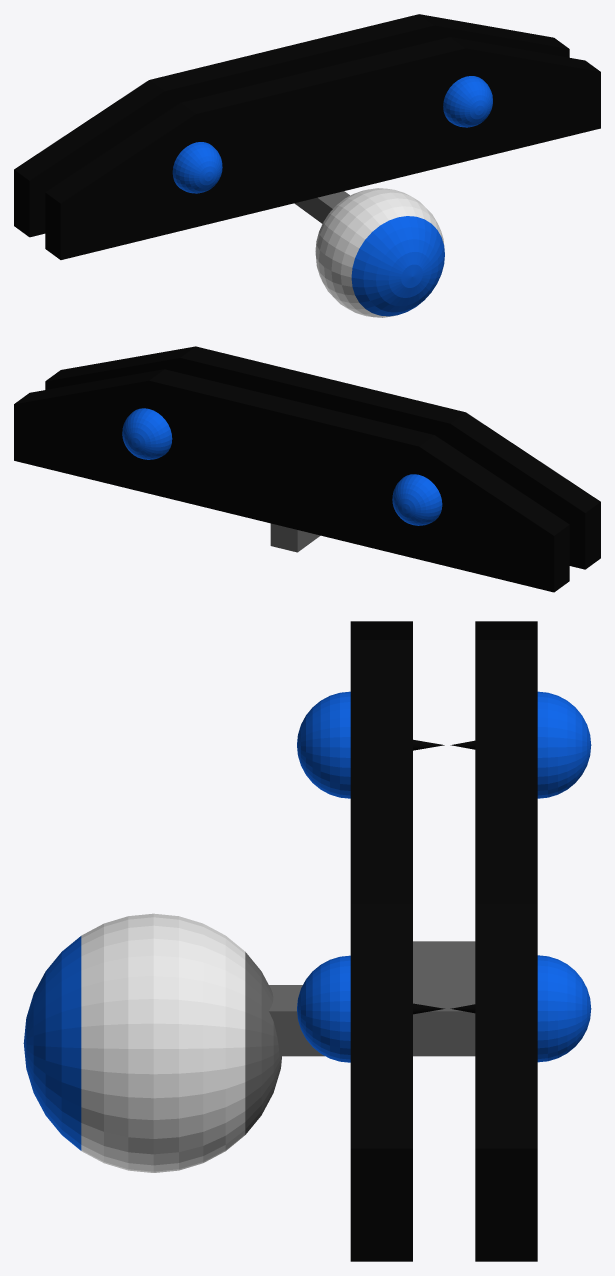
File: Tower Forte B.fbx
3 views of the same model, one above another, from view 1: azimuth 30°, elevation 25°; view 2: azimuth 150°, elevation 25°; view 3: azimuth 270°, elevation 25° (orthographic). The views are drawn at different scales.
Visible parts, largest first — view 1: Cube; view 2: Cube; view 3: Cube.
Boxes of the visible parts, x1,y1,x2,y2 form: Cube: (14,14,600,317); Cube: (14,346,600,592); Cube: (23,621,591,1261).
Bounding box in the file's own units: 500 × 172 × 227.
